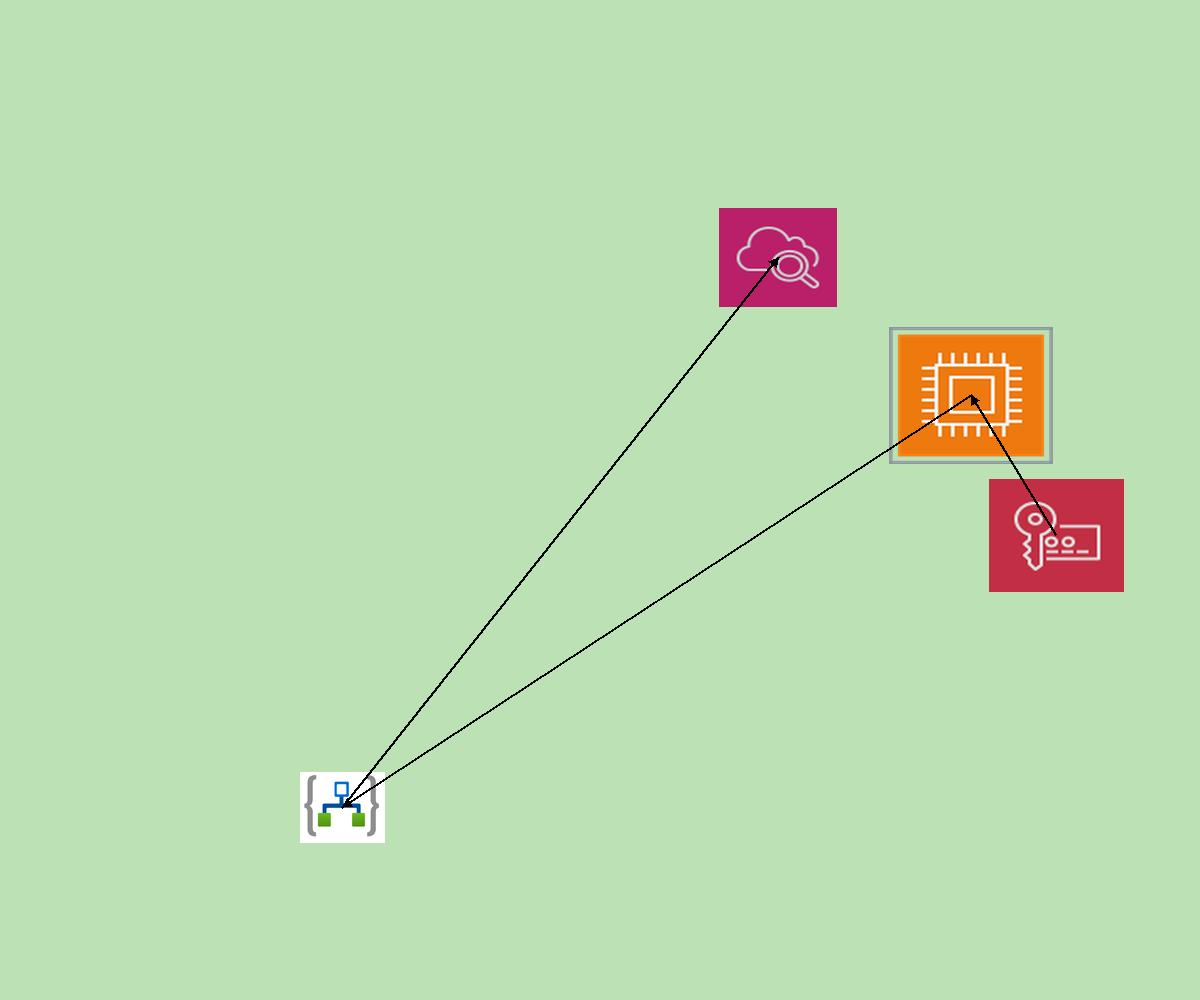AWS-Category_Compute: (889, 327, 1053, 464)
AWS-CloudWatch: (719, 208, 837, 307)
AWS-Key-Management-Service: (989, 479, 1124, 592)
Azure_integration-204-Logic-Apps: (300, 772, 385, 843)
